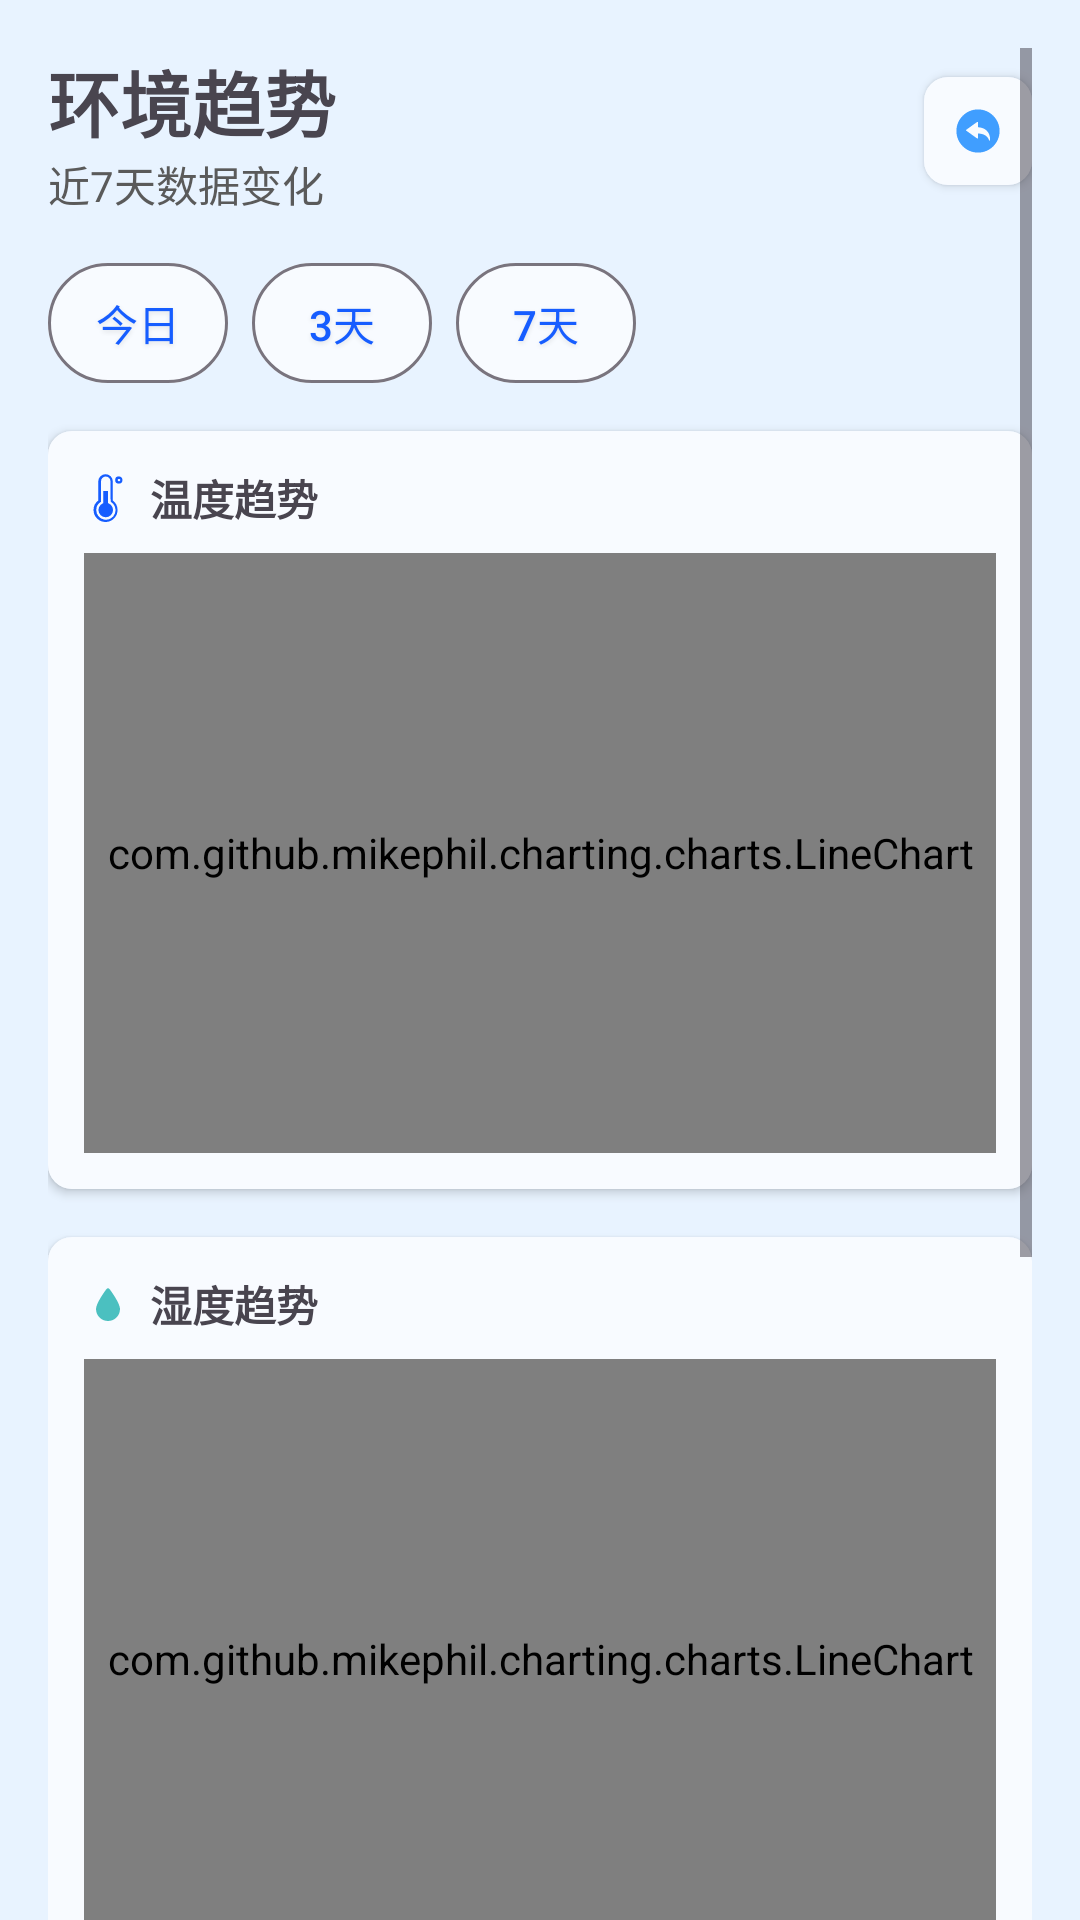

Named icons in this screenshot (1080w x 1920h) and their centers, (x=x, y=y):
back: (x=978, y=131)
thermometer: (x=108, y=498)
